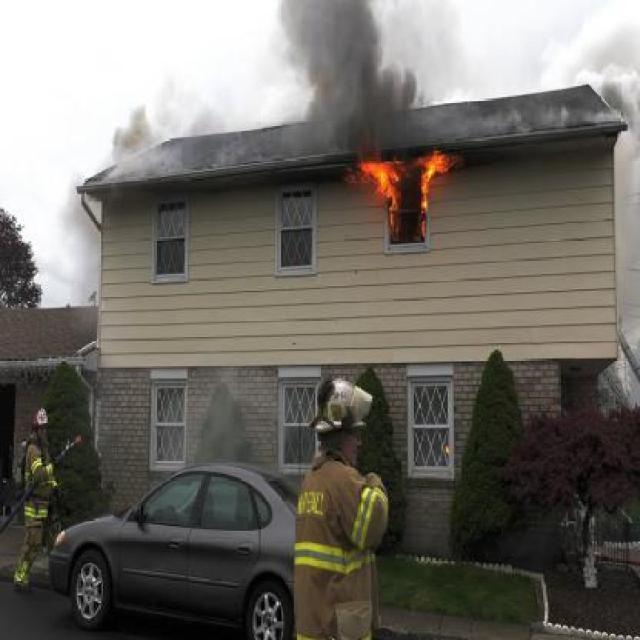Fire: (360, 147, 396, 198), (416, 153, 456, 181), (418, 164, 428, 240), (386, 190, 400, 238)
Smoke: (314, 52, 416, 134), (306, 0, 373, 92)
